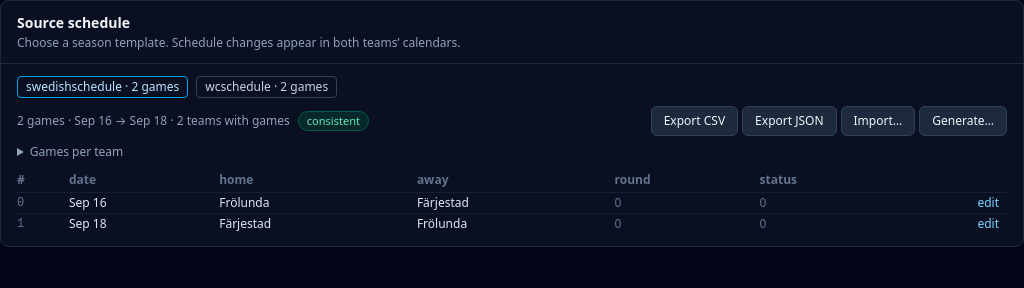
Scenario: LeagueScheduleCard (P1-A R1 ownership) › shows a tournament template on its league's page, labelled and read-only (R115)
Expected: the element with test id "schedule-summary" is shown, [17,106,1007,136]
Click the button "wcschedule · 2 games".
click(267, 87)  # box [196,76,337,98]
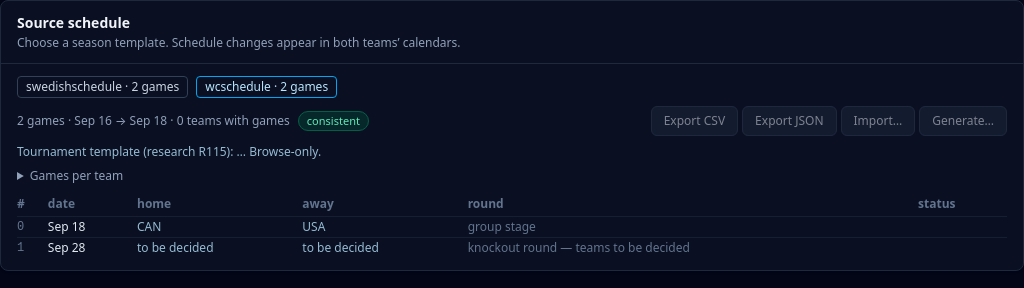
Expected: the text "Tournament template (research R115): … Browse-only." is shown, [17,143,321,160]
Expected: the elements with test id "schedule-slot-label" read "CAN", "USA", "to be decided", "to be decided", in this order, [137,218,161,235]; [302,218,325,235]; [137,239,214,256]; [302,239,379,256]
Expected: the text "group stage" is shown, [468,216,918,238]
